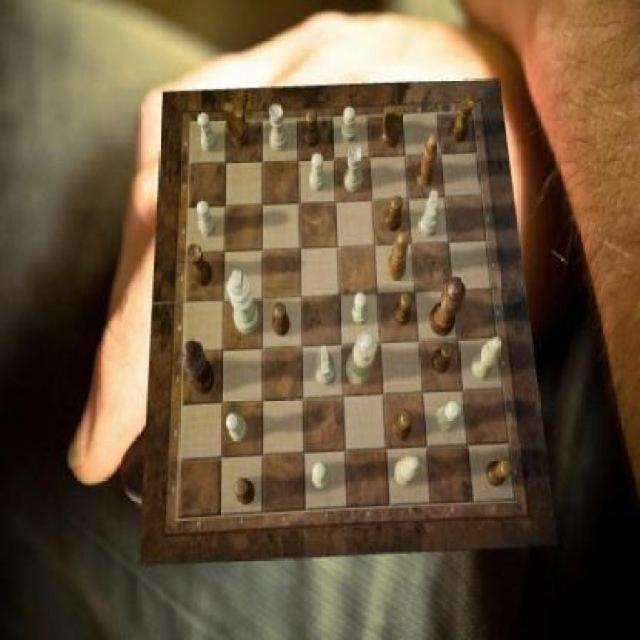bishop: (416, 134, 438, 188), (386, 234, 409, 281)
black-bishop: (182, 340, 214, 396)
black-king: (225, 103, 249, 149), (382, 105, 404, 147)
black-knight: (432, 341, 455, 374), (486, 460, 513, 488), (392, 292, 412, 326), (303, 109, 320, 147), (392, 411, 412, 442), (385, 195, 402, 230), (274, 303, 291, 337), (236, 478, 256, 504)
black-pawn: (430, 277, 466, 337)
black-queen: (451, 94, 475, 141), (188, 243, 214, 285)
black-rook: (472, 337, 502, 379), (394, 455, 420, 488)
white-bishop: (228, 270, 260, 334)
white-king: (418, 191, 439, 237), (316, 346, 336, 386)
white-knight: (198, 112, 218, 152), (436, 400, 460, 432), (197, 200, 216, 238), (309, 152, 326, 190), (226, 414, 249, 441), (352, 292, 370, 326), (342, 106, 358, 142), (313, 463, 332, 491)
white-pawn: (346, 330, 379, 386)
white-queen: (269, 105, 289, 152), (345, 146, 362, 192)
